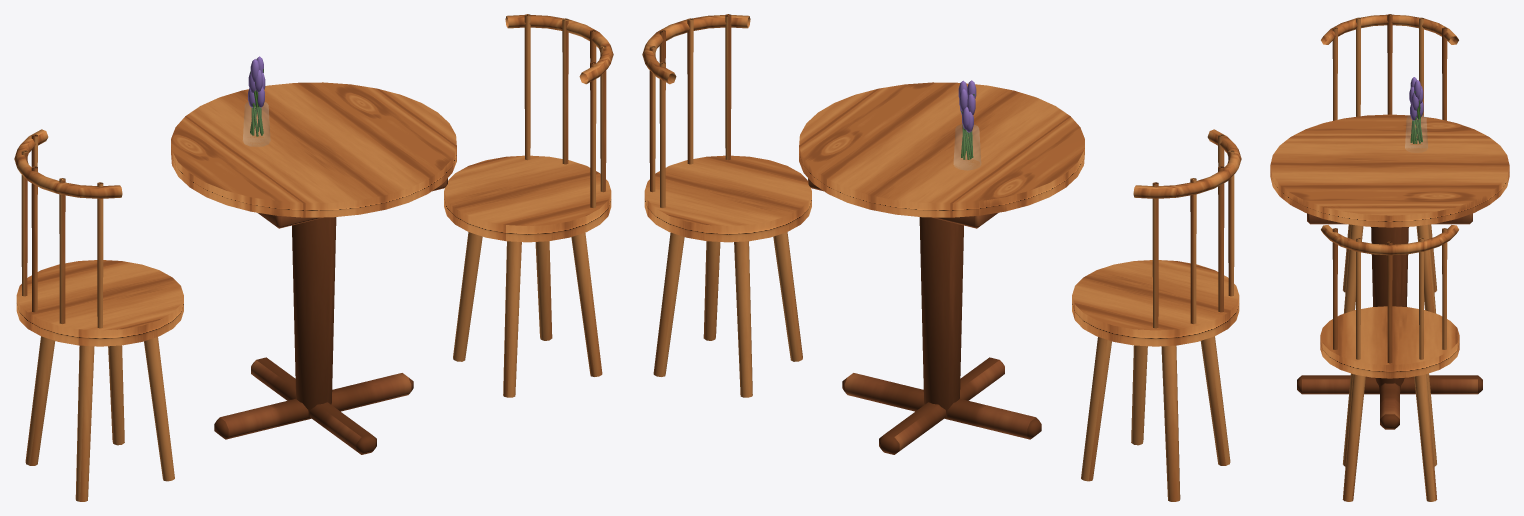
The model's file is cafe_table.glb.
3 views of the same model, side by side, from view 1: azimuth 30°, elevation 25°; view 2: azimuth 150°, elevation 25°; view 3: azimuth 270°, elevation 25° (orthographic). The views are drawn at different scales.
Visible parts, largest first — view 1: model; view 2: model; view 3: model.
Part boxes in pixels (left/top/right/bottom): model: left=14, top=14, right=613, bottom=501; model: left=642, top=14, right=1241, bottom=501; model: left=1270, top=14, right=1509, bottom=501.
Size of the model in its own units: 1.67 by 1 by 0.72.
Materials: 5 (2 with a texture image).
